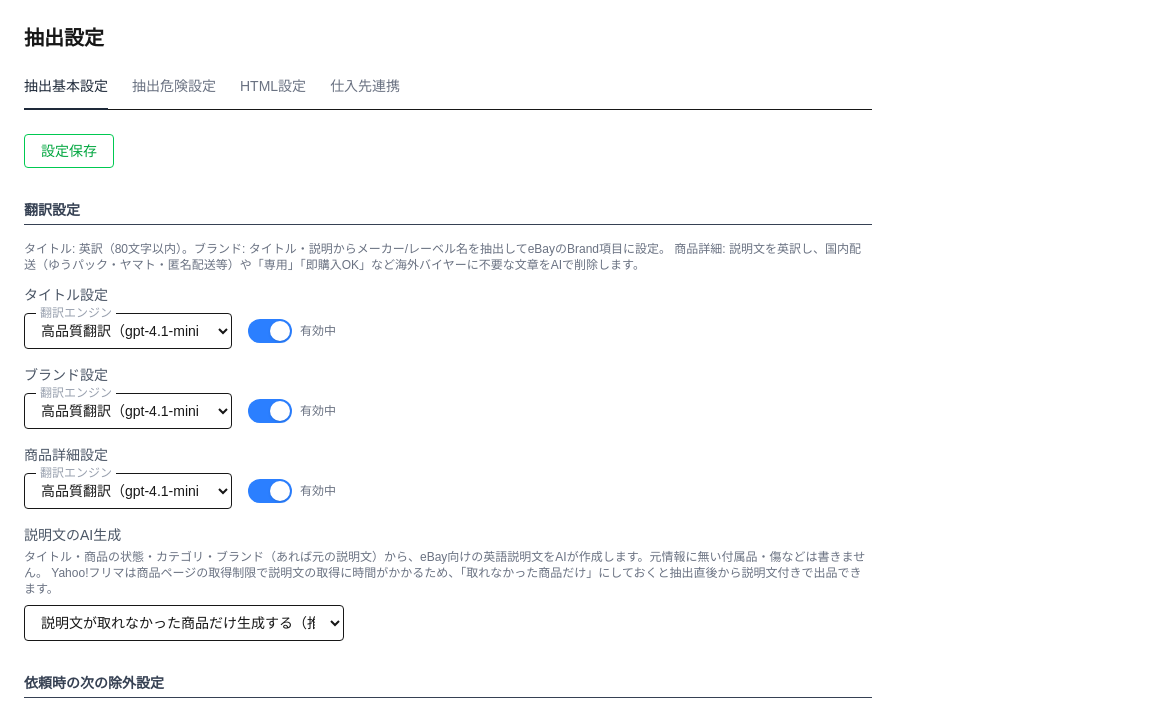
Test: 抽出設定ページ: Veroブランドの登録UI › 抽出危険設定タブにVeroセクションが表示され、登録済みブランドが見える
Click the button "抽出危険設定" at (174, 93), box x1=132 y1=76 x2=216 y2=110
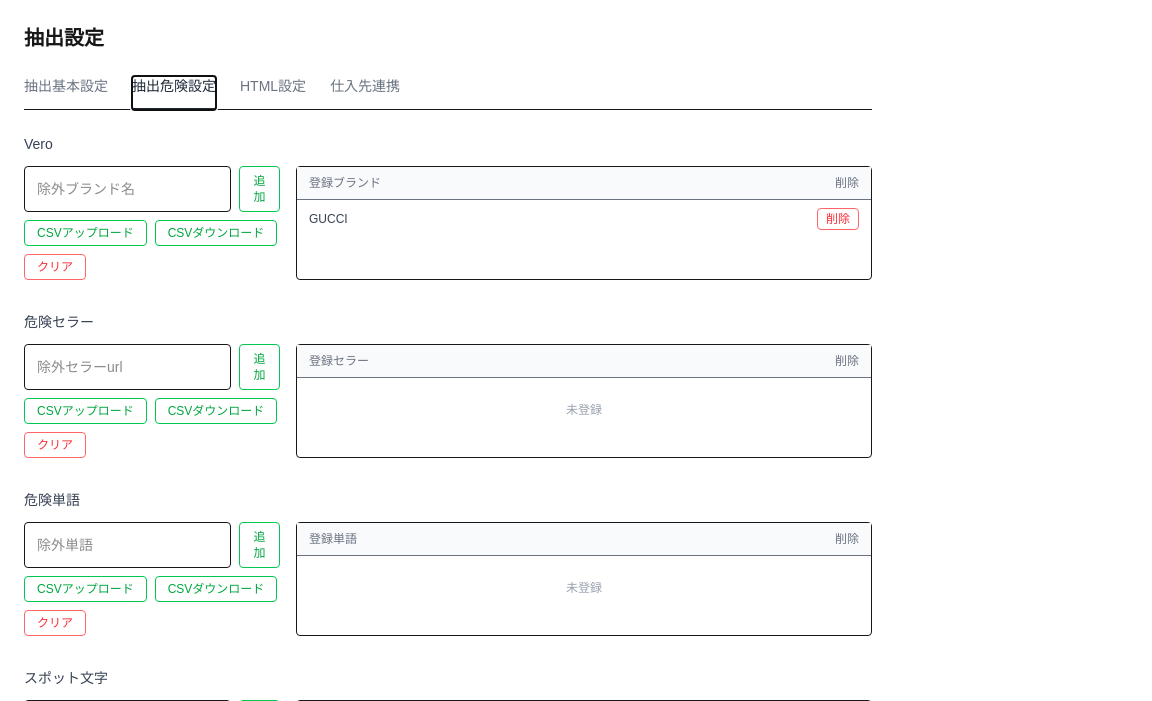
Result: the text "Vero" is shown at x1=24 y1=136 x2=53 y2=152
Result: the text "GUCCI" is shown at x1=309 y1=212 x2=348 y2=226
